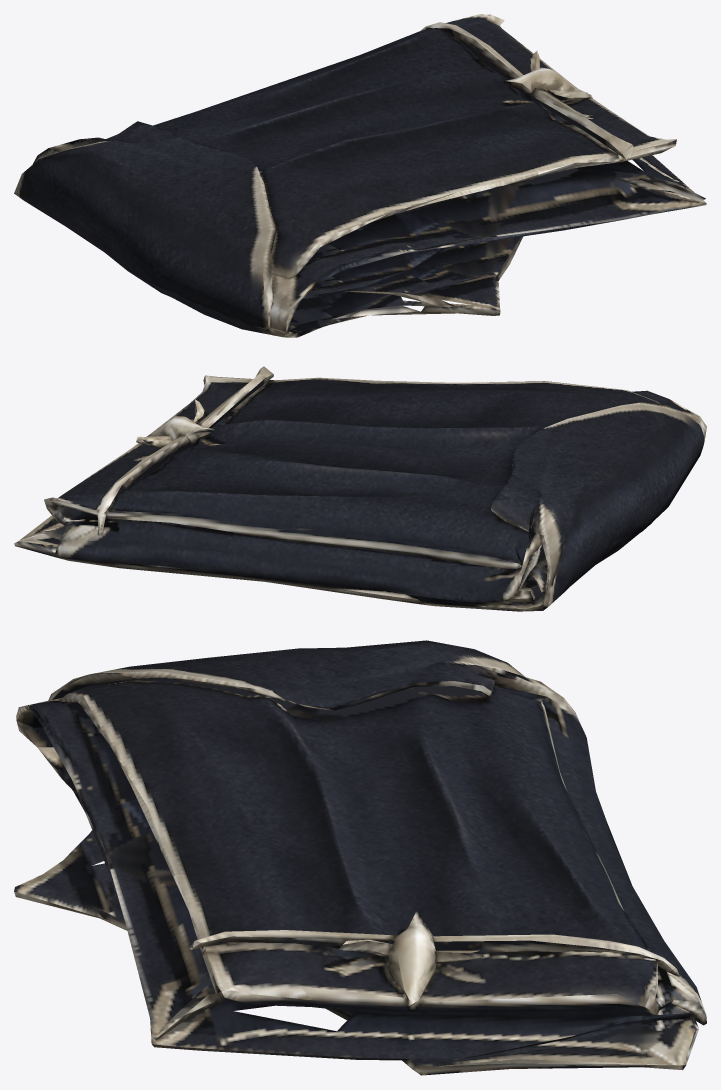
The model's file is item_6cape5.glb.
The picture shows the model from 3 angles, top to bottom: view 1: azimuth 30°, elevation 25°; view 2: azimuth 150°, elevation 25°; view 3: azimuth 270°, elevation 25°; orthographic projection. The views are drawn at different scales.
Parts seen in each view (by area): view 1: equipment_6cape5; view 2: equipment_6cape5; view 3: equipment_6cape5.
Part boxes in pixels (x1=…): equipment_6cape5: x1=14, y1=14, x2=706, y2=337; equipment_6cape5: x1=14, y1=366, x2=706, y2=611; equipment_6cape5: x1=14, y1=640, x2=706, y2=1075.
Size of the model in its own units: 1 by 0.1965 by 0.9037.
Materials: 1 (1 with a texture image).
